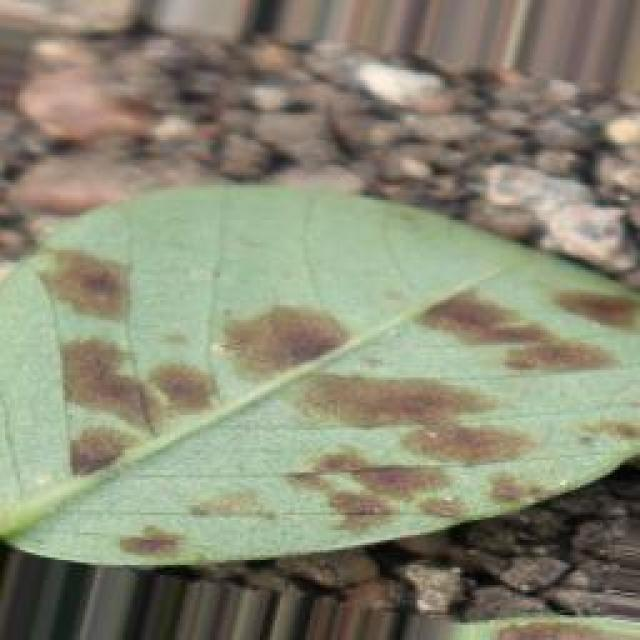Whitefly: (24, 105, 640, 640)
